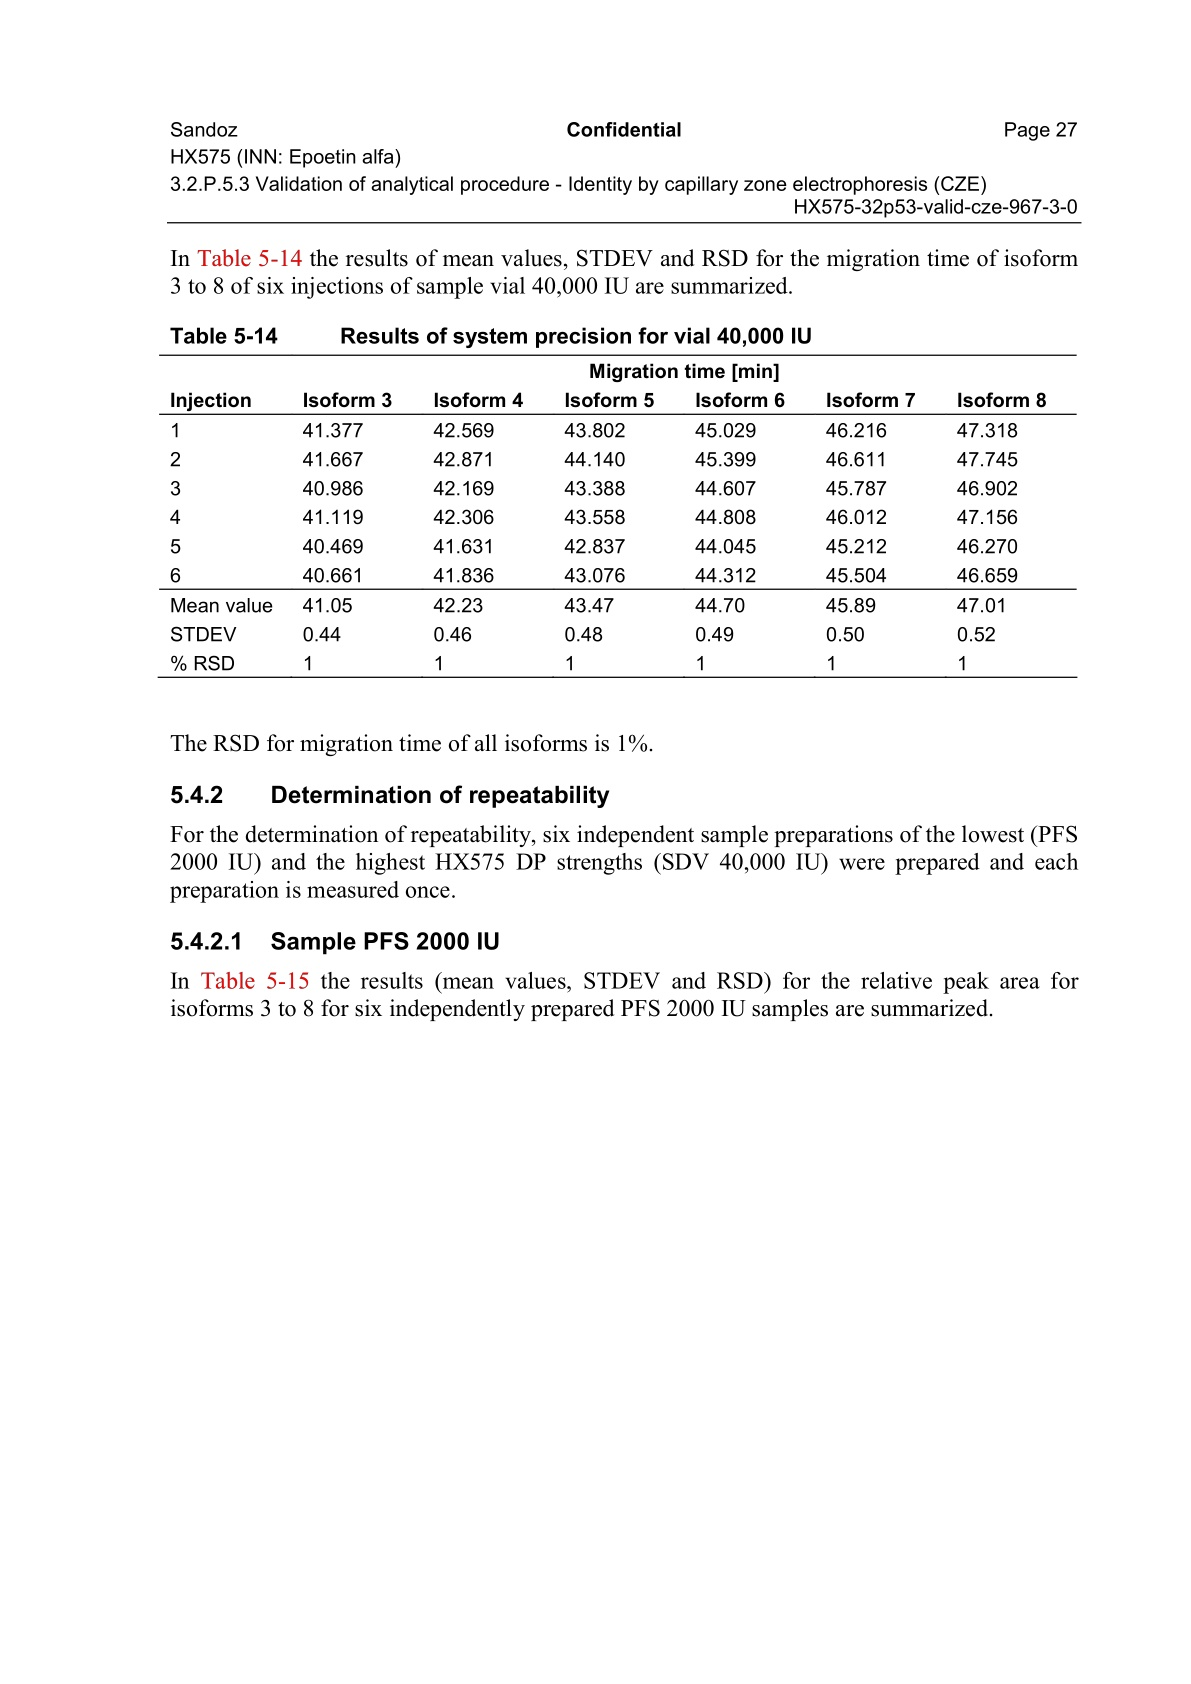partial_lined_merged_cells: (157, 350, 1081, 682)
